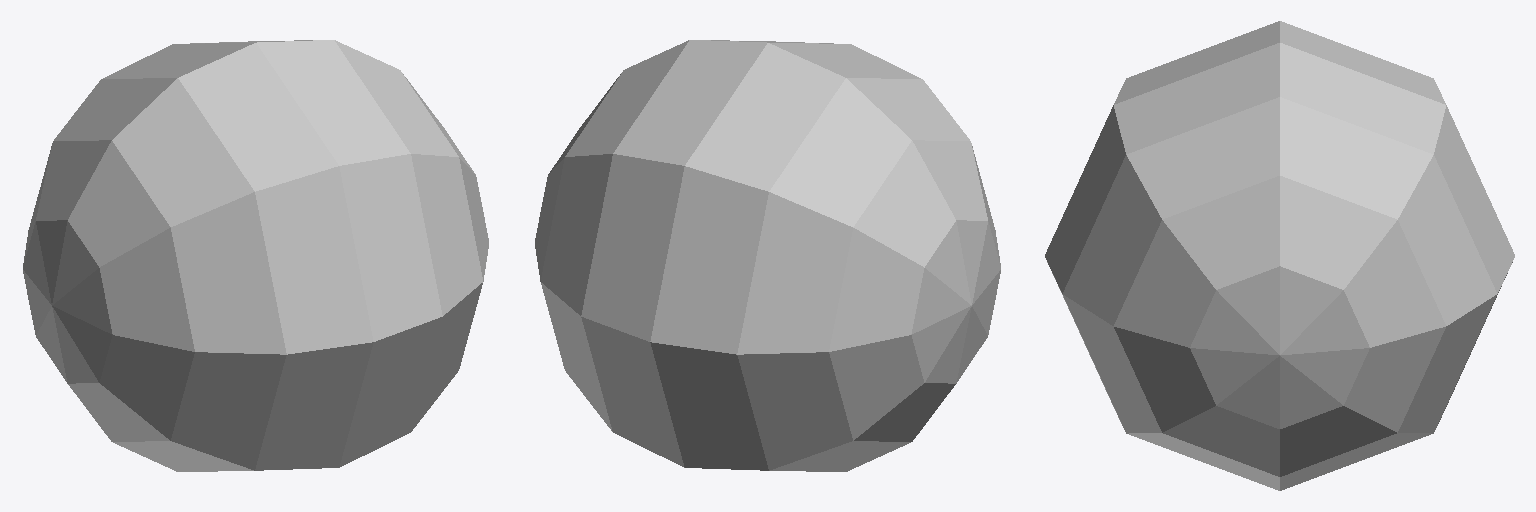
Rendered from Furnace.obj.
3 renders of one model, left to right at view 1: azimuth 30°, elevation 25°; view 2: azimuth 150°, elevation 25°; view 3: azimuth 270°, elevation 25°, orthographic.
Parts seen in each view (by area): view 1: Sphere_Sphere.002; view 2: Sphere_Sphere.002; view 3: Sphere_Sphere.002.
Part boxes in pixels (x1,y1,x2,y2): Sphere_Sphere.002: (23,40,488,471); Sphere_Sphere.002: (535,40,1000,471); Sphere_Sphere.002: (1045,21,1514,490).
Size of the model in its own units: 2 by 2 by 2.